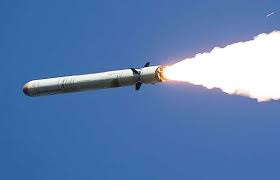ten_lua: (19, 63, 169, 97)
